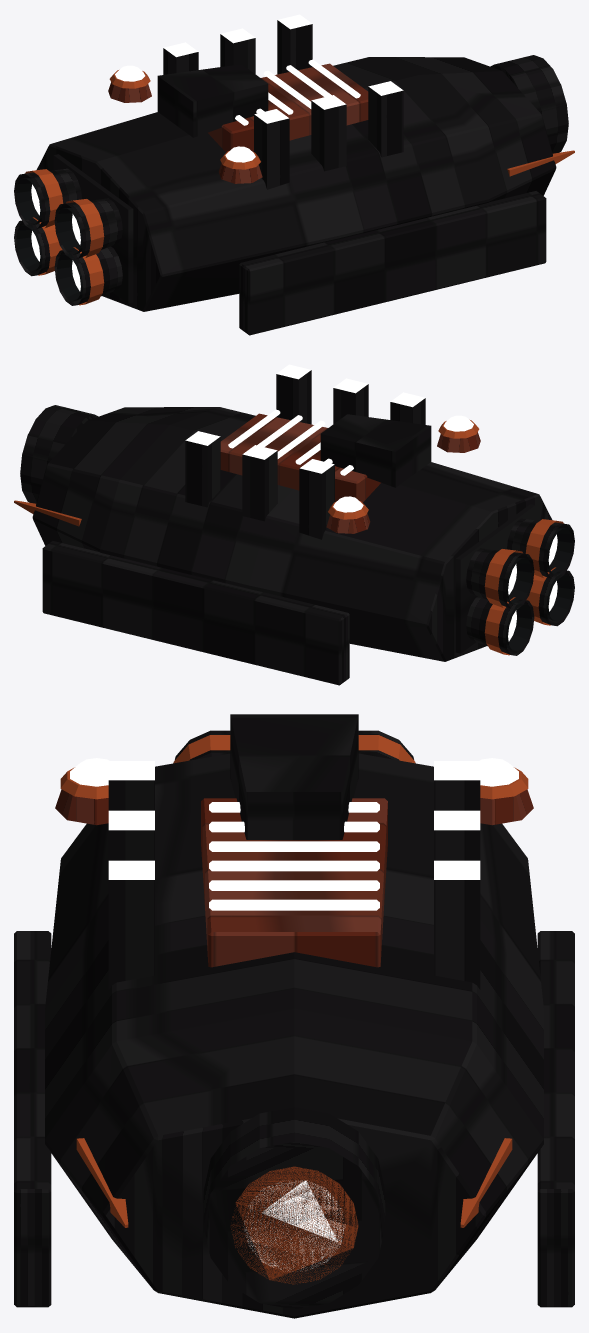
Rendered from siege_ship.glb.
The picture shows the model from 3 angles, top to bottom: view 1: azimuth 30°, elevation 25°; view 2: azimuth 150°, elevation 25°; view 3: azimuth 270°, elevation 25°; orthographic projection. The views are drawn at different scales.
Parts seen in each view (by area): view 1: hull_body, engine_block, sensor_tower, weapon_mounts, shield_domes; view 2: hull_body, engine_block, sensor_tower, weapon_mounts, shield_domes; view 3: hull_body, weapon_mounts, sensor_tower, shield_domes, engine_block.
Part boxes in pixels (left/top/right/bottom): hull_body: left=36, top=14, right=574, bottom=335; engine_block: left=14, top=154, right=133, bottom=305; sensor_tower: left=157, top=64, right=268, bottom=137; weapon_mounts: left=490, top=55, right=568, bottom=153; shield_domes: left=108, top=65, right=262, bottom=183; hull_body: left=14, top=364, right=552, bottom=685; engine_block: left=455, top=504, right=574, bottom=655; sensor_tower: left=320, top=414, right=431, bottom=487; weapon_mounts: left=20, top=405, right=98, bottom=503; shield_domes: left=326, top=415, right=480, bottom=533; hull_body: left=14, top=753, right=574, bottom=1318; weapon_mounts: left=203, top=1107, right=385, bottom=1309; sensor_tower: left=230, top=714, right=358, bottom=839; shield_domes: left=55, top=758, right=533, bottom=825; engine_block: left=173, top=730, right=415, bottom=763.
Bounding box in the file's own units: 58 × 21.78 × 31.83.
1 material, 1 textured.
